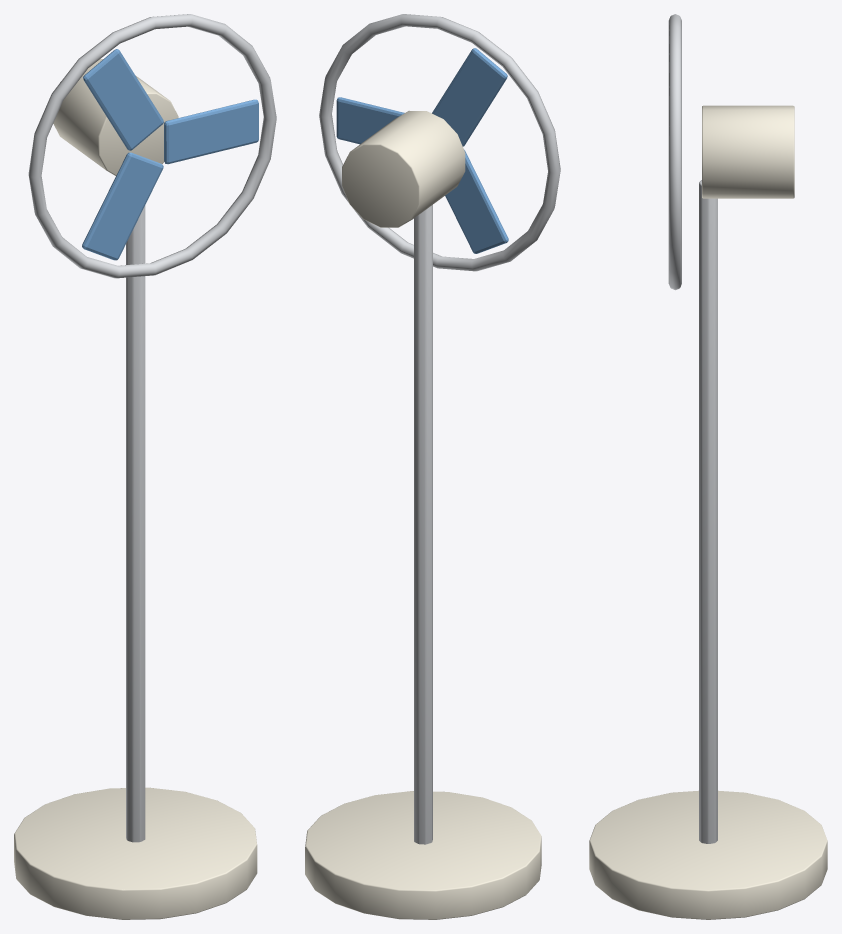
File: v2_standing_fan.fbx
3 views of the same model, side by side, from view 1: azimuth 30°, elevation 25°; view 2: azimuth 150°, elevation 25°; view 3: azimuth 270°, elevation 25° (orthographic). The views are drawn at different scales.
Parts seen in each view (by area): view 1: Base, Pole.001, Guard, Motor, Blade.002, Blade, Blade.001; view 2: Base, Pole.001, Motor, Guard, Blade.001, Blade.002, Blade; view 3: Base, Pole.001, Motor, Guard.
Boxes of the visible parts, x1,y1,x2,y2 form: Base: (14,787,257,919); Pole.001: (126,205,145,842); Guard: (28,14,276,278); Motor: (53,59,178,175); Blade.002: (82,152,163,260); Blade: (164,99,258,164); Blade.001: (83,49,163,150); Base: (305,791,541,919); Pole.001: (414,205,432,844); Motor: (342,110,465,227); Guard: (319,14,560,271); Blade.001: (432,48,507,146); Blade.002: (445,149,508,253); Blade: (336,97,404,144); Base: (589,790,827,919); Pole.001: (699,180,717,843); Motor: (702,105,794,198); Guard: (668,14,681,290).
Bounding box in the file's own units: 0.42 × 1.41 × 0.36.
